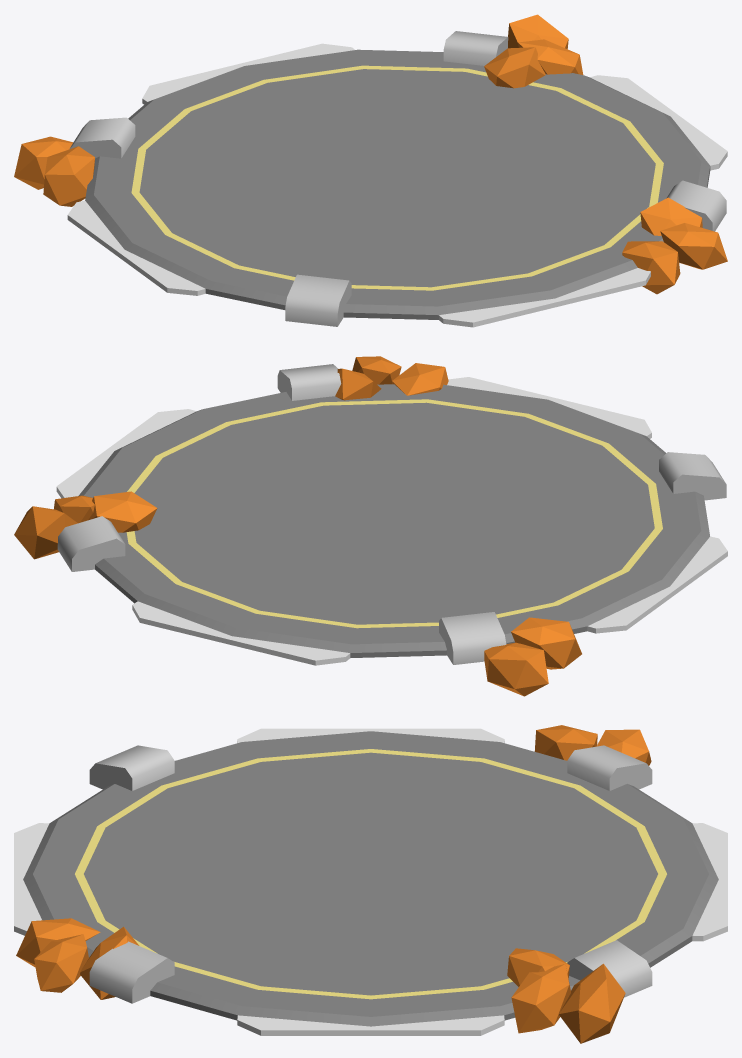
File: LandingPad.glb
3 renders of one model, top to bottom at view 1: azimuth 30°, elevation 25°; view 2: azimuth 150°, elevation 25°; view 3: azimuth 270°, elevation 25°, orthographic. The views are drawn at different scales.
Visible parts, largest first — view 1: Cylinder.009, Icosphere.001, Cube.009; view 2: Cylinder.009, Icosphere.001, Cube.009; view 3: Cylinder.009, Icosphere.001, Cube.009.
Boxes of the visible parts, x1,y1,x2,y2 form: Cylinder.009: (67, 43, 727, 327); Icosphere.001: (14, 14, 727, 294); Cube.009: (69, 31, 726, 326); Cylinder.009: (56, 377, 727, 665); Icosphere.001: (14, 356, 581, 696); Cube.009: (57, 364, 726, 664); Cylinder.009: (14, 728, 727, 1035); Icosphere.001: (16, 725, 651, 1043); Cube.009: (89, 745, 652, 1003).
Bounding box in the file's own units: 11.9 × 1.25 × 11.9.
Materials: 1 (1 with a texture image).
